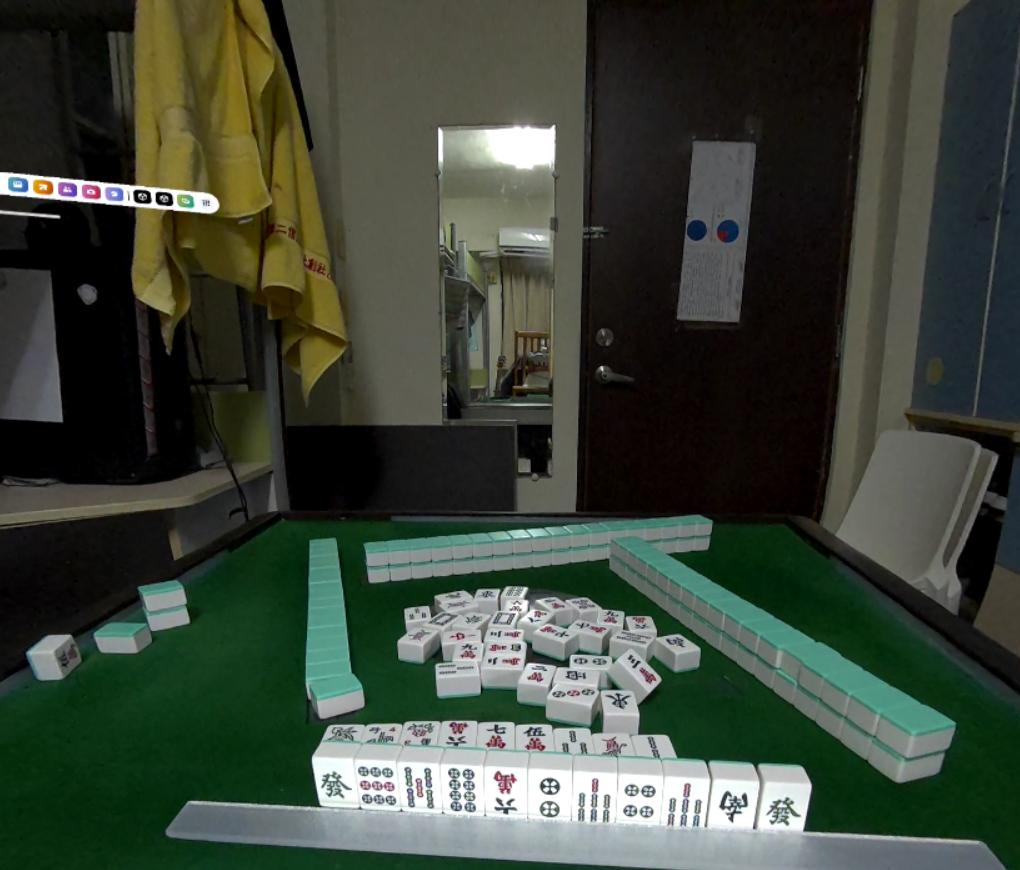mahjong: (706, 779, 759, 838), (760, 783, 812, 837), (660, 776, 711, 831), (523, 775, 574, 824), (441, 765, 484, 819), (311, 755, 358, 804), (620, 775, 660, 832), (357, 759, 400, 809), (481, 770, 523, 820), (577, 776, 619, 823), (401, 763, 439, 809)
